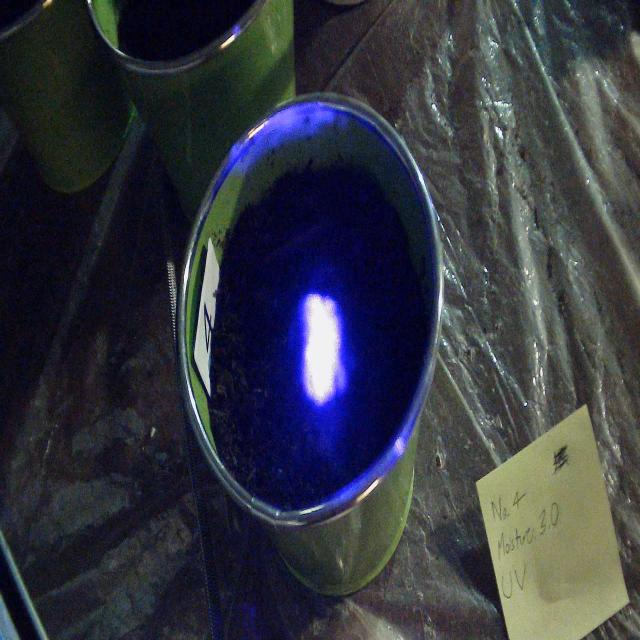soil-moisture-3.0: (299, 292, 347, 404)
